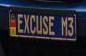3: (68, 16, 74, 38)
C: (29, 14, 36, 34)
E: (17, 13, 24, 33), (49, 16, 56, 36)
M: (61, 15, 68, 37)
S: (43, 15, 49, 36)
U: (36, 14, 43, 35)
X: (23, 13, 30, 33)
